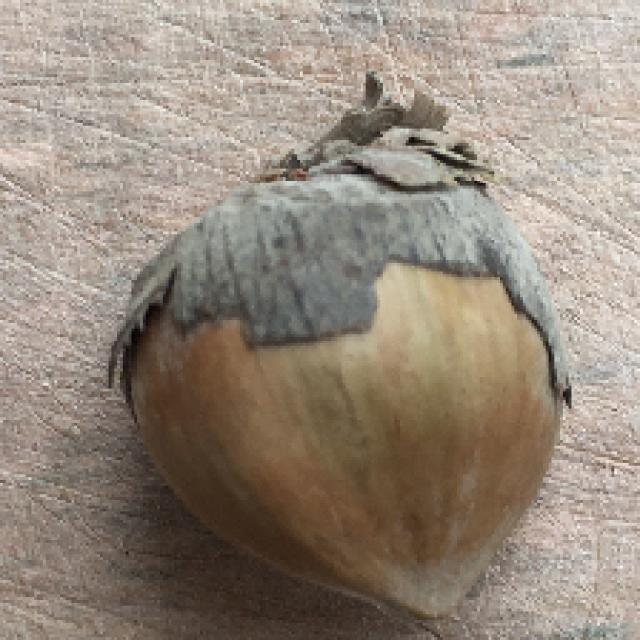damagedHazelnut: (110, 80, 568, 622)
